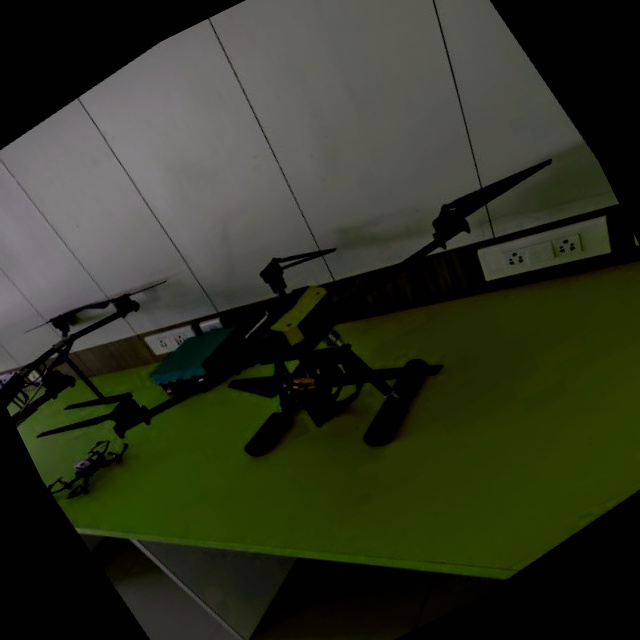quadcopter: (0, 65, 640, 619)
